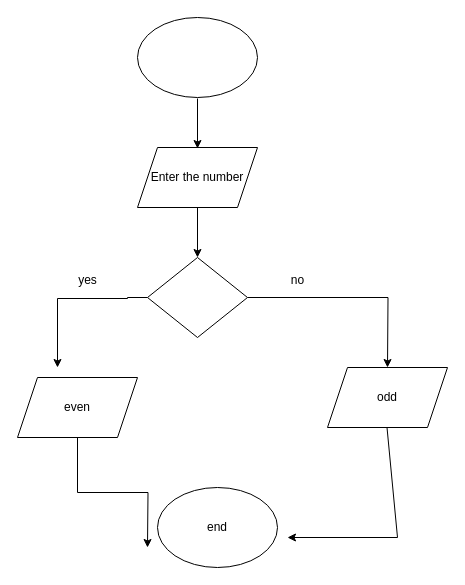
This 465x585 diagram has some shape labels left out. Here are the shapes that lost their labels. From the top down, the centre of each, then its label:
At point (197, 57): "start".
At point (197, 297): "if num is div by2".
